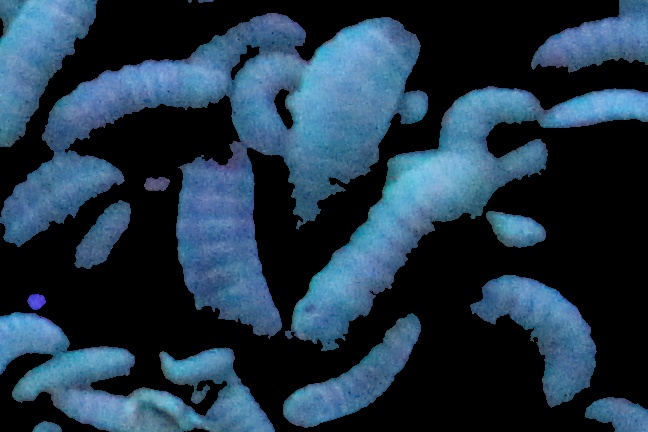larvae: (307, 147, 493, 343), (282, 22, 424, 262), (184, 143, 293, 345), (474, 269, 599, 421), (263, 315, 421, 422), (35, 59, 234, 143), (1, 1, 101, 160), (437, 72, 536, 148), (536, 9, 647, 73), (229, 49, 296, 152), (174, 14, 308, 65), (70, 191, 136, 286), (533, 85, 648, 133), (15, 352, 128, 396), (49, 378, 134, 429), (1, 304, 73, 357), (156, 353, 242, 383)
